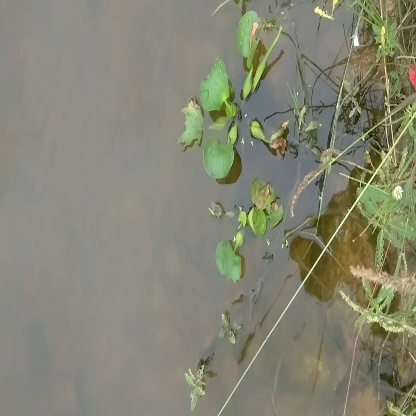leaf: (185, 62, 245, 179)
